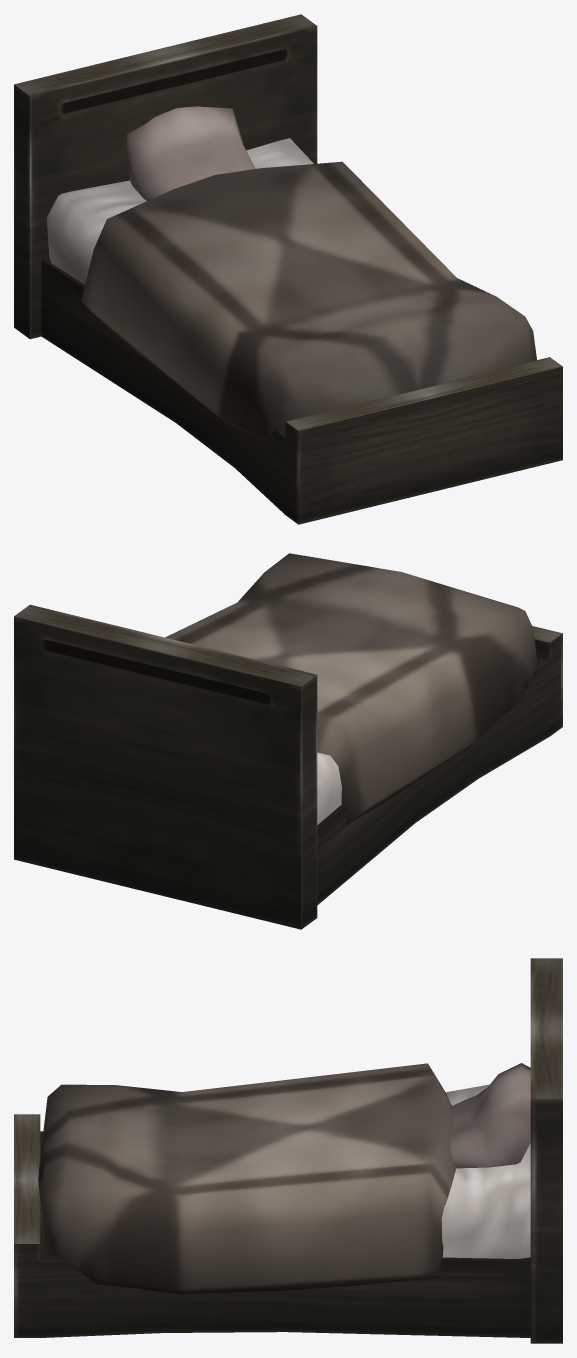
File: ColonialBed_HD.fbx
3 renders of one model, top to bottom at view 1: azimuth 30°, elevation 25°; view 2: azimuth 150°, elevation 25°; view 3: azimuth 270°, elevation 25°, orthographic.
Visible parts, largest first — view 1: ColonialBed; view 2: ColonialBed; view 3: ColonialBed.
Boxes of the visible parts, x1,y1,x2,y2 form: ColonialBed: (14,14,562,524); ColonialBed: (14,553,562,929); ColonialBed: (14,958,562,1343).
Bounding box in the file's own units: 1.19 × 0.9654 × 1.96.
